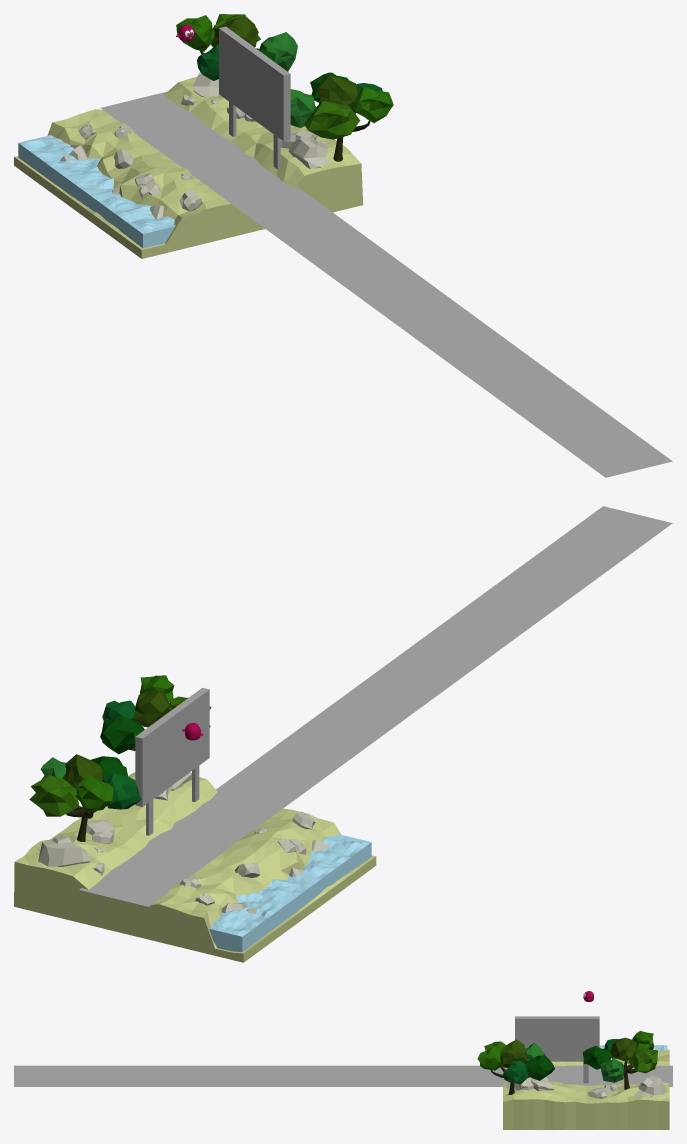
The picture shows the model from 3 angles, top to bottom: view 1: azimuth 30°, elevation 25°; view 2: azimuth 150°, elevation 25°; view 3: azimuth 270°, elevation 25°; orthographic projection. The views are drawn at different scales.
Parts seen in each view (by area): view 1: pPlane1, Terrain, Water, board, tree, tree1, Rock_017; view 2: pPlane1, Terrain, Water, board, tree1, tree, Rock_001; view 3: pPlane1, Terrain, board, tree1, tree, Rock_001, Rock_002.
Part boxes in pixels (<box>): pPlane1: <box>101,91,672,477</box>; Terrain: <box>14,76,363,258</box>; Water: <box>18,135,175,248</box>; board: <box>219,26,290,169</box>; tree: <box>290,72,393,161</box>; tree1: <box>176,14,297,80</box>; Rock_017: <box>288,136,329,168</box>; pPlane1: <box>79,506,672,906</box>; Terrain: <box>14,772,376,962</box>; Water: <box>209,834,371,951</box>; board: <box>135,687,209,835</box>; tree1: <box>29,754,141,841</box>; tree: <box>100,675,211,754</box>; Rock_001: <box>37,834,93,866</box>; pPlane1: <box>14,1065,672,1086</box>; Terrain: <box>503,1049,669,1129</box>; board: <box>515,1016,599,1083</box>; tree1: <box>582,1030,657,1089</box>; tree: <box>477,1039,554,1094</box>; Rock_001: <box>634,1075,666,1097</box>; Rock_002: <box>531,1077,554,1091</box>.
Size of the model in its own units: 9.17 by 5.78 by 31.63.
